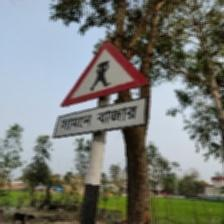Market-in-front: (53, 39, 149, 139)
